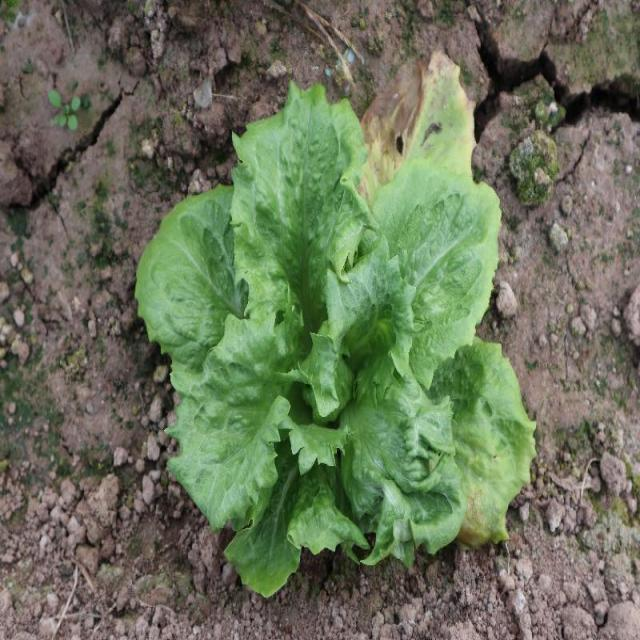crop: (135, 86, 527, 598)
